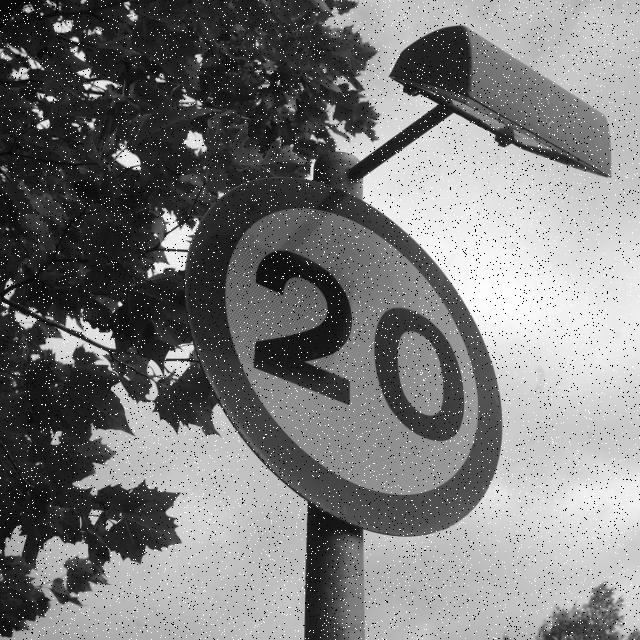speedlimit_20: (188, 166, 501, 534)
